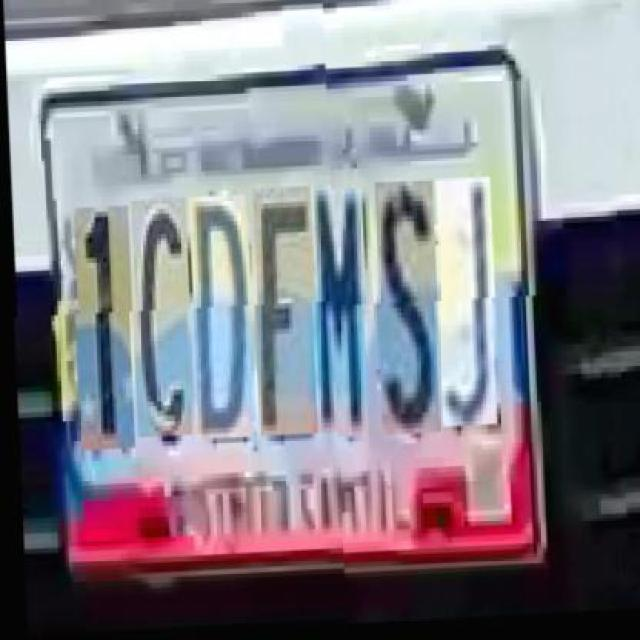1: (73, 212, 135, 456)
c: (130, 205, 192, 443)
d: (187, 202, 253, 446)
f: (251, 194, 317, 443)
j: (434, 182, 497, 430)
m: (308, 192, 368, 440)
s: (373, 184, 439, 438)
